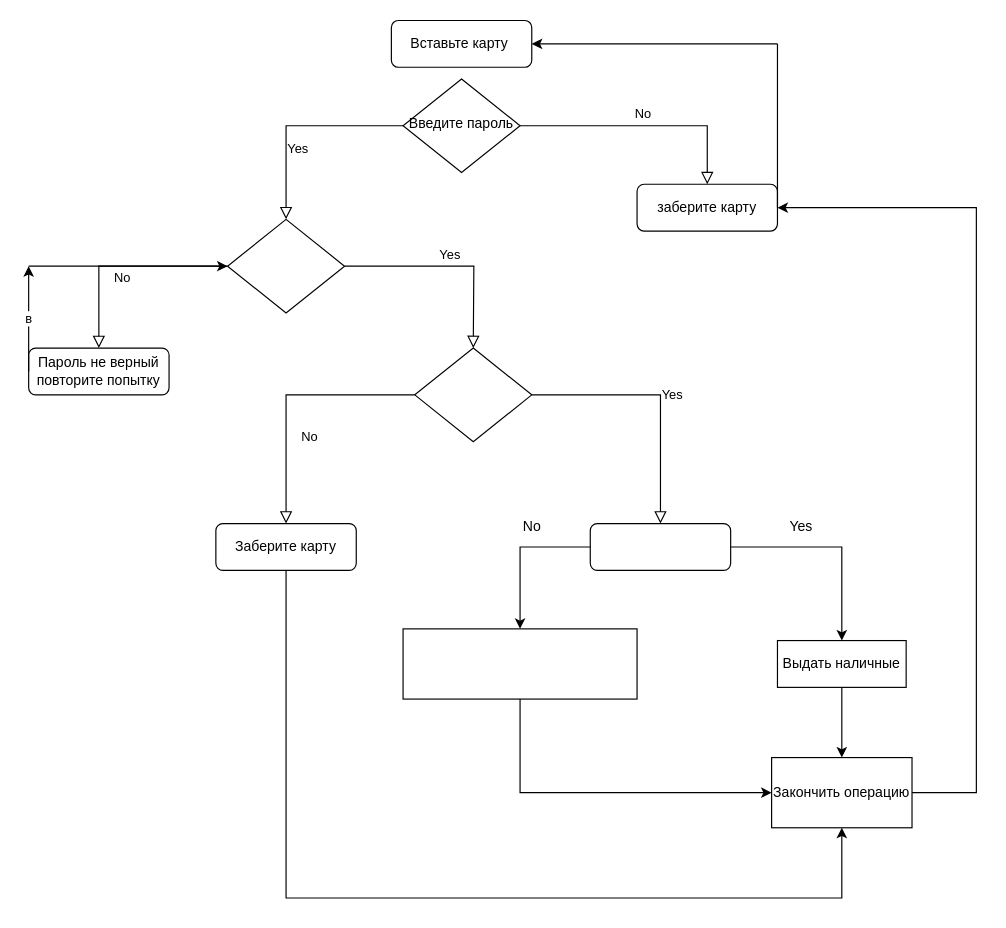
Image size: 1006x928. Some labels were removed from this diagram. Each missing label, with the box of its shape:
Недостаточно средств на счету для снятия наличных.: (402, 628, 637, 699)
Проверка баланса: (589, 522, 731, 570)
Проверка пароля: (226, 218, 345, 313)
Снять наличные?: (414, 347, 532, 442)
